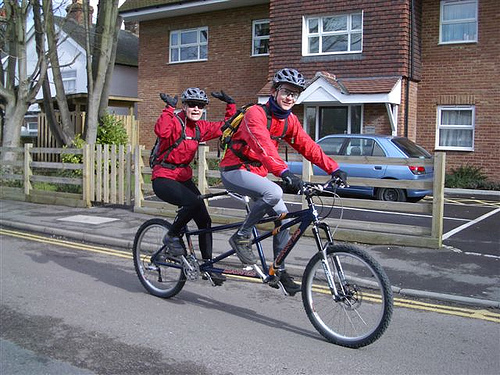without_mask: (266, 68, 305, 117), (177, 89, 212, 125)
